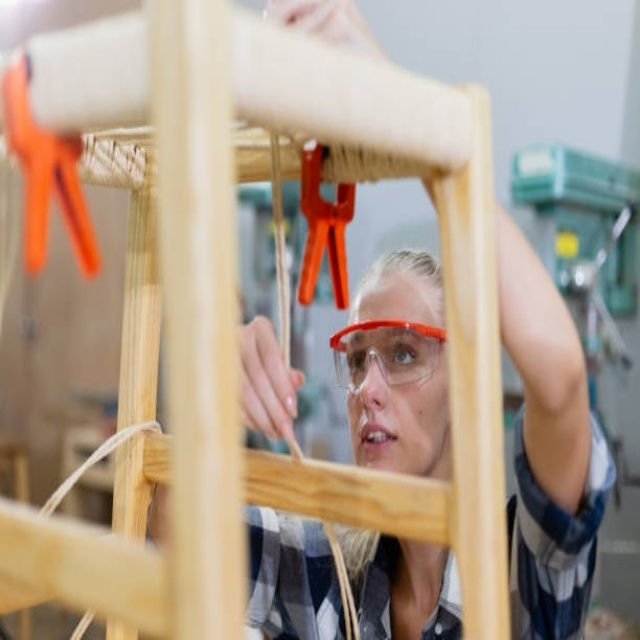Gafas: (329, 321, 447, 393)
Sin_guantes: (236, 311, 305, 444)
Sin_mascara: (353, 413, 405, 472)
